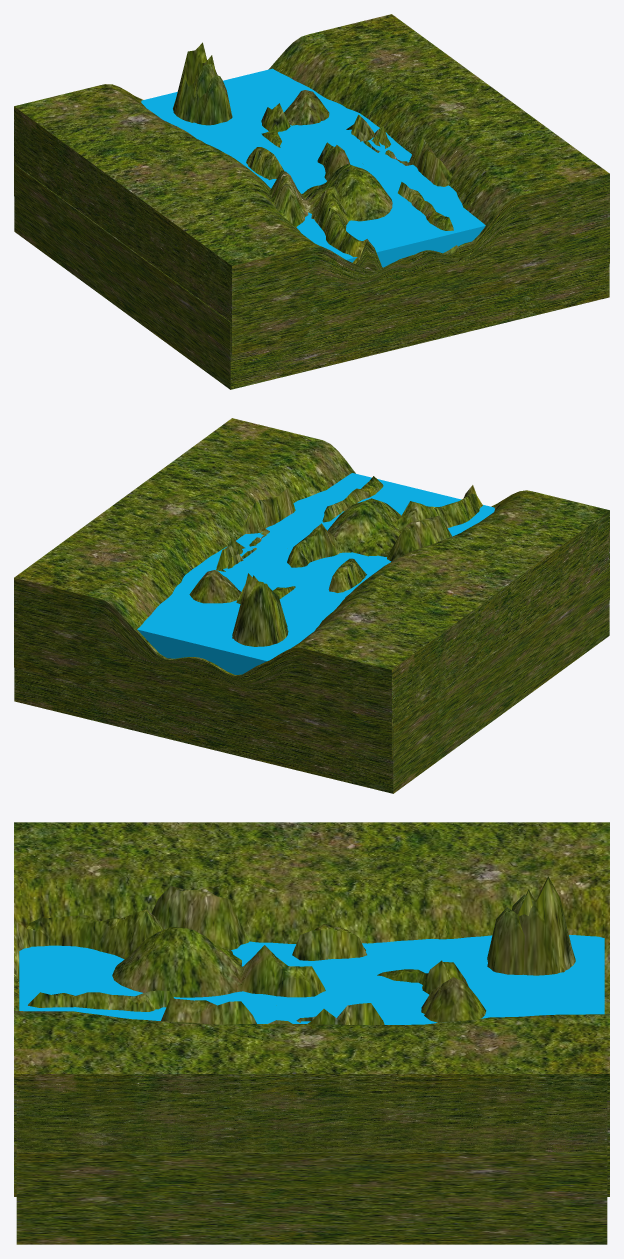
The model's file is 散乱型河床.gltf.
The picture shows the model from 3 angles, top to bottom: view 1: azimuth 30°, elevation 25°; view 2: azimuth 150°, elevation 25°; view 3: azimuth 270°, elevation 25°; orthographic projection. The views are drawn at different scales.
Visible parts, largest first — view 1: node_Box001_3458, node_Cube_3254, node_Box003_3452, node_Cube (1)_-2796, node_Box002_3456; view 2: node_Box001_3458, node_Cube_3254, node_Box003_3452, node_Cube (1)_-2796; view 3: node_Box001_3458, node_Box003_3452, node_Cube_3254, node_Cube (1)_-2796, node_Box002_3456.
Boxes of the visible parts, bbox=[...] form: node_Box001_3458: bbox=[14, 14, 609, 355]; node_Cube_3254: bbox=[14, 164, 609, 389]; node_Box003_3452: bbox=[15, 42, 457, 321]; node_Cube (1)_-2796: bbox=[141, 68, 485, 267]; node_Box002_3456: bbox=[194, 55, 380, 146]; node_Box001_3458: bbox=[14, 418, 609, 759]; node_Cube_3254: bbox=[14, 568, 609, 793]; node_Box003_3452: bbox=[189, 476, 608, 725]; node_Cube (1)_-2796: bbox=[137, 473, 494, 674]; node_Box001_3458: bbox=[14, 822, 609, 1196]; node_Box003_3452: bbox=[16, 876, 607, 1152]; node_Cube_3254: bbox=[16, 1152, 607, 1244]; node_Cube (1)_-2796: bbox=[19, 935, 604, 1024]; node_Box002_3456: bbox=[421, 889, 534, 1013].
Bounding box in the file's own units: 2.8 × 1.16 × 2.79.
